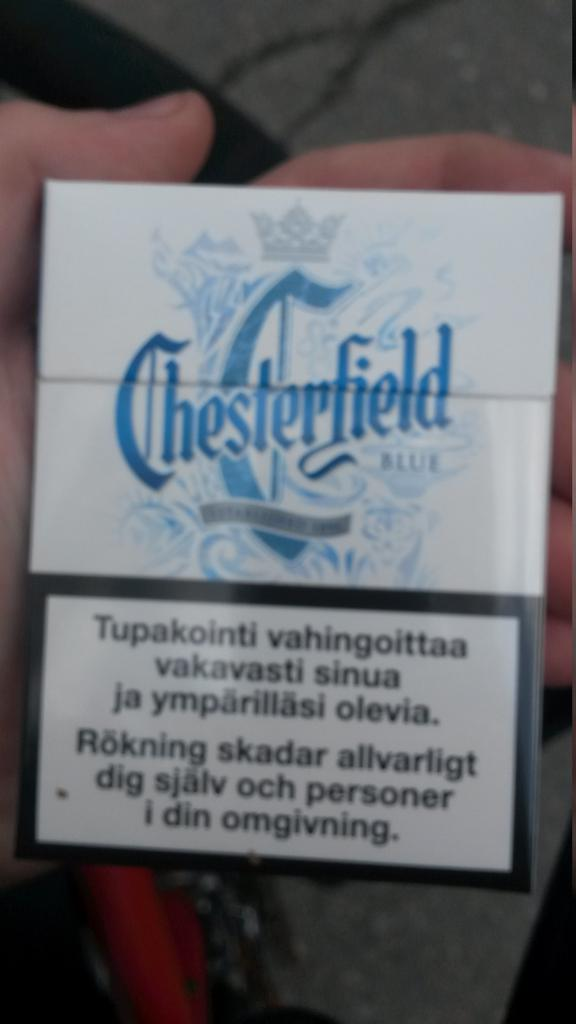chesterfield_blue: (29, 185, 541, 865)
